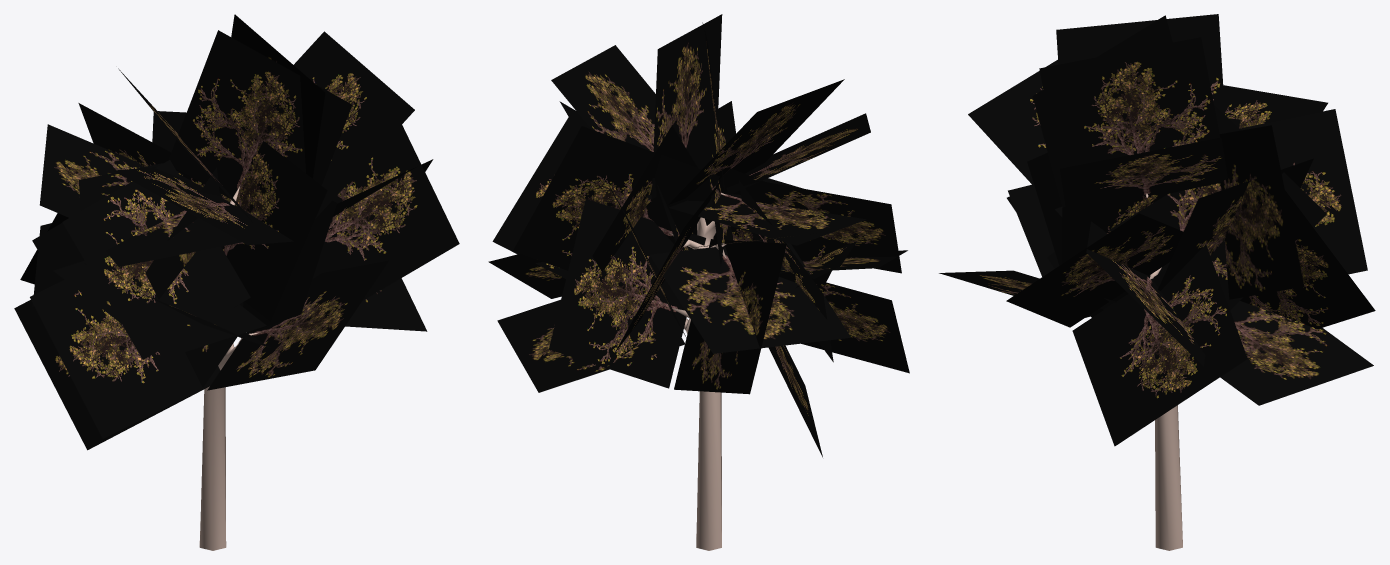
File: tree19.glb
3 renders of one model, left to right at view 1: azimuth 30°, elevation 25°; view 2: azimuth 150°, elevation 25°; view 3: azimuth 270°, elevation 25°, orthographic. The views are drawn at different scales.
Size of the model in its own units: 5.64 by 7.11 by 5.31.
2 materials, 1 textured.
